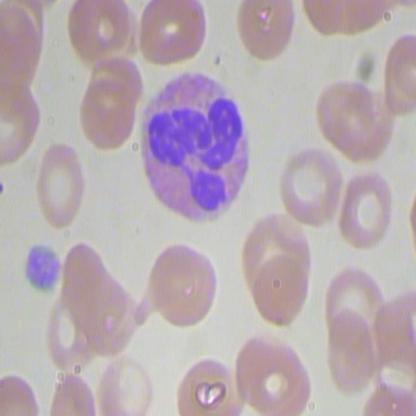Platelets: (17, 240, 62, 295)
RBC: (136, 237, 216, 331), (233, 327, 312, 415), (275, 140, 343, 230), (309, 73, 376, 157), (33, 138, 90, 231), (335, 161, 393, 250), (136, 1, 207, 72), (165, 354, 246, 415), (250, 248, 311, 328), (324, 309, 377, 394), (75, 77, 136, 149), (66, 1, 133, 61), (231, 1, 298, 61), (95, 354, 154, 415), (45, 367, 96, 415)
WBC: (136, 68, 254, 232)
